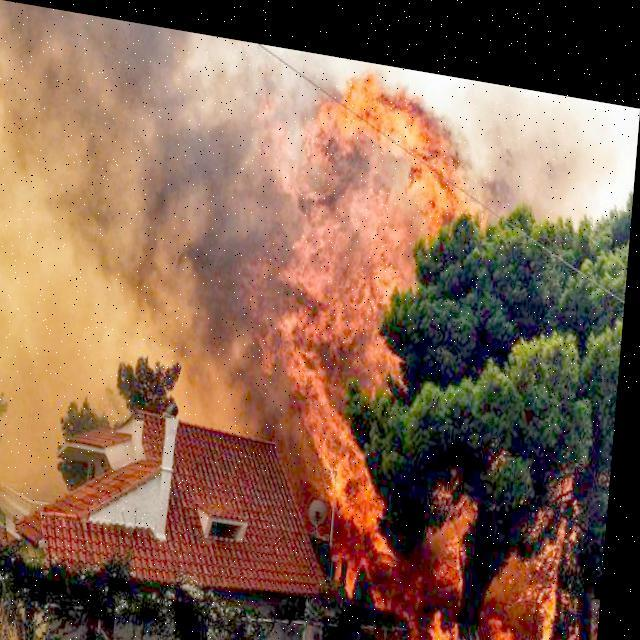Fire: (222, 54, 617, 639)
